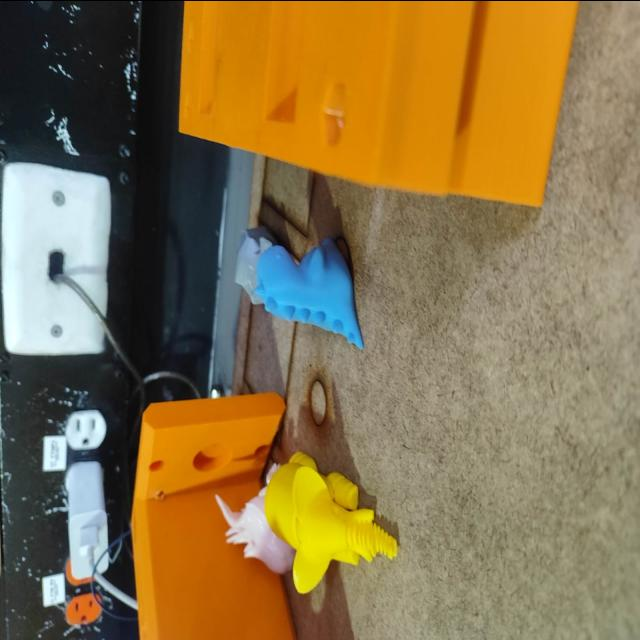DINO: (234, 231, 368, 345)
